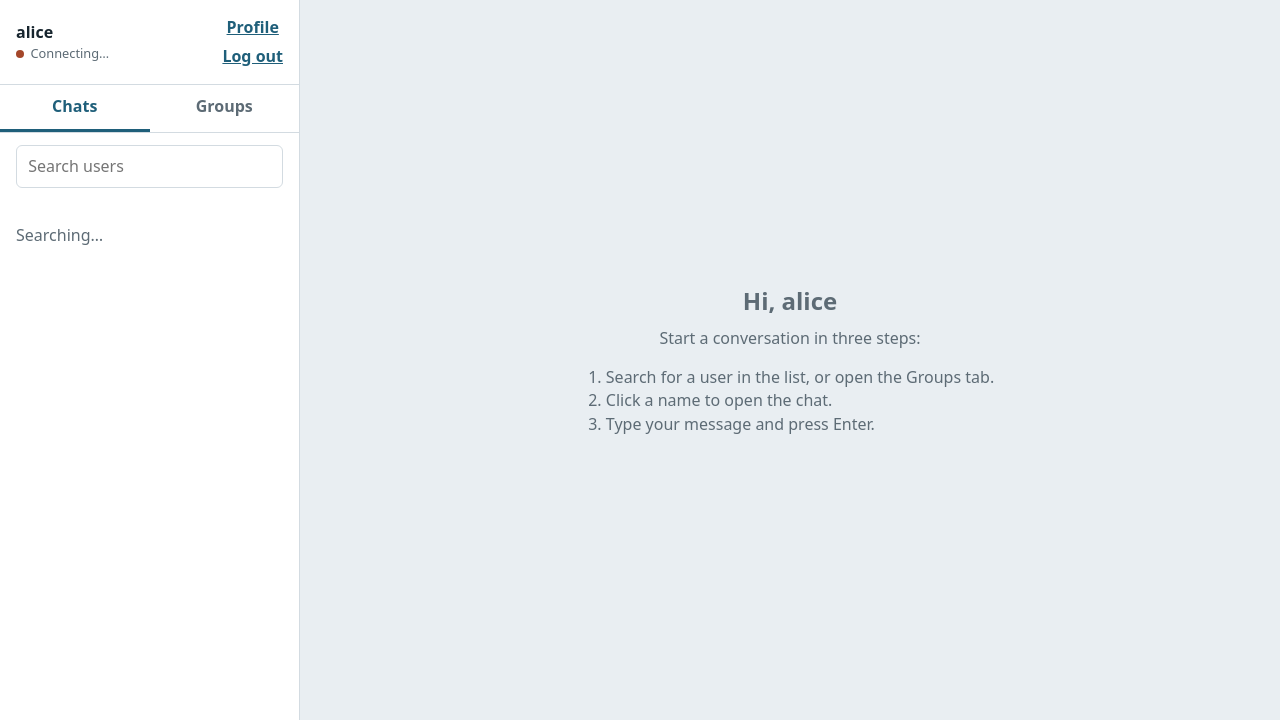
Test: mounted profile/session behavior › late profile load cannot restore a logged-out session or leak into a new login
Click the button with test id "logout-button" at [253, 56], box [222,45,283,68]
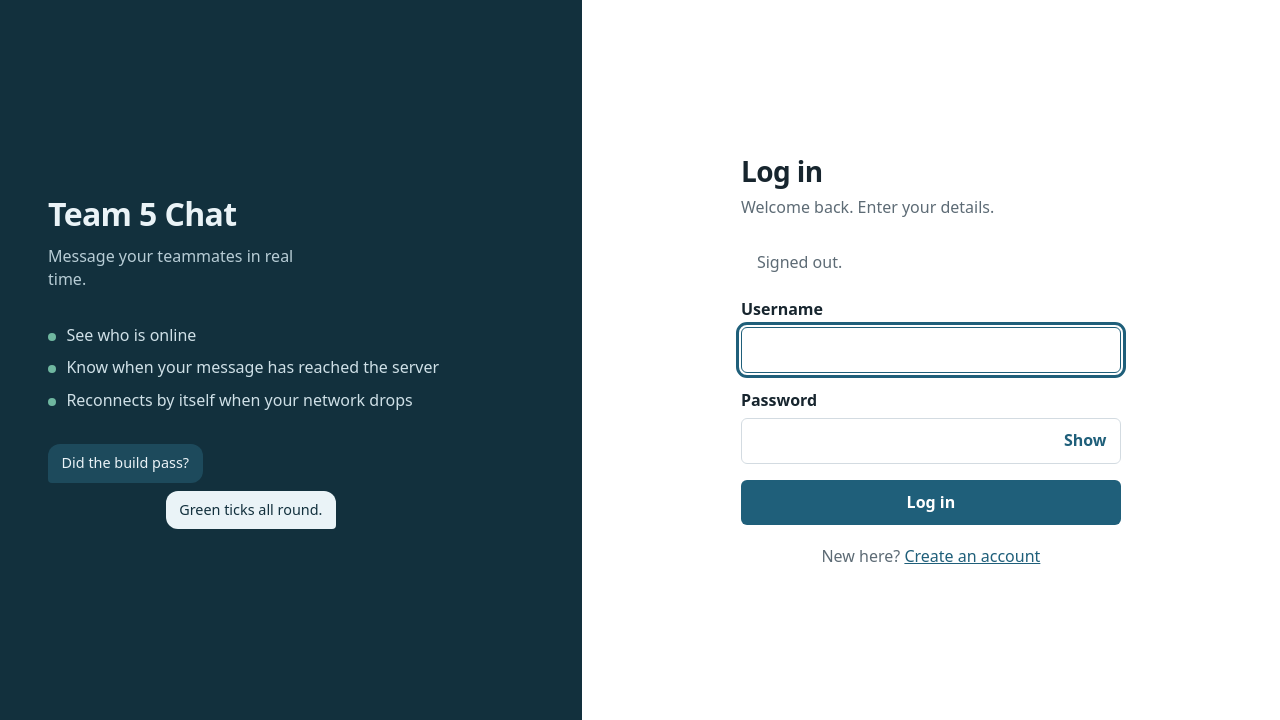
Expected: the field with test id "auth-username" is shown, [741,327,1121,373]
